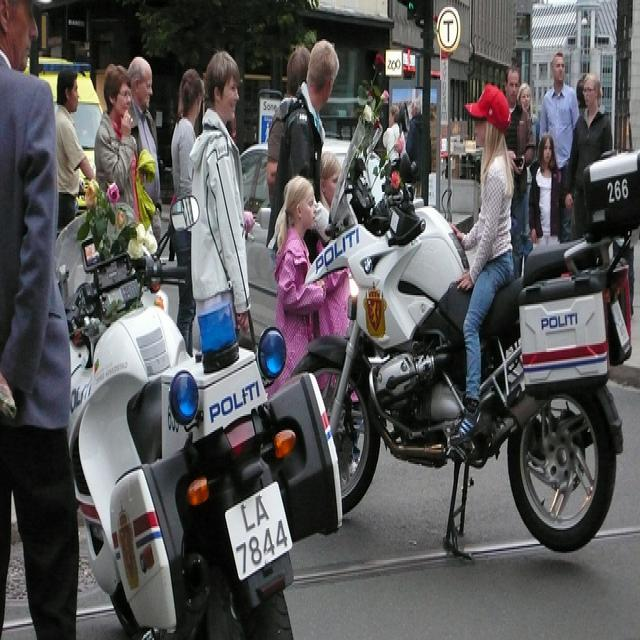motor: (291, 122, 631, 559), (56, 191, 345, 626)
